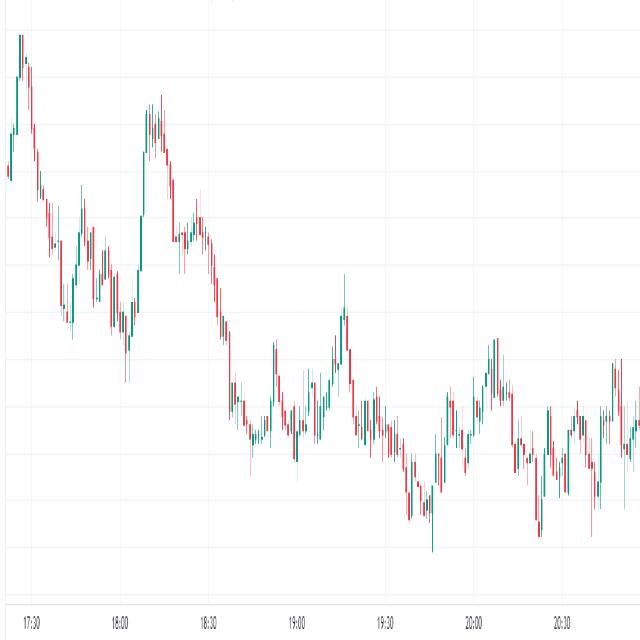Ascending-Triangle: (539, 401, 600, 574)
Descending-Triangle: (123, 32, 369, 463)
